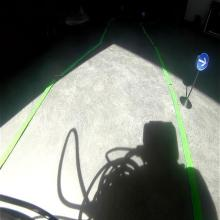right: (195, 51, 209, 70)
